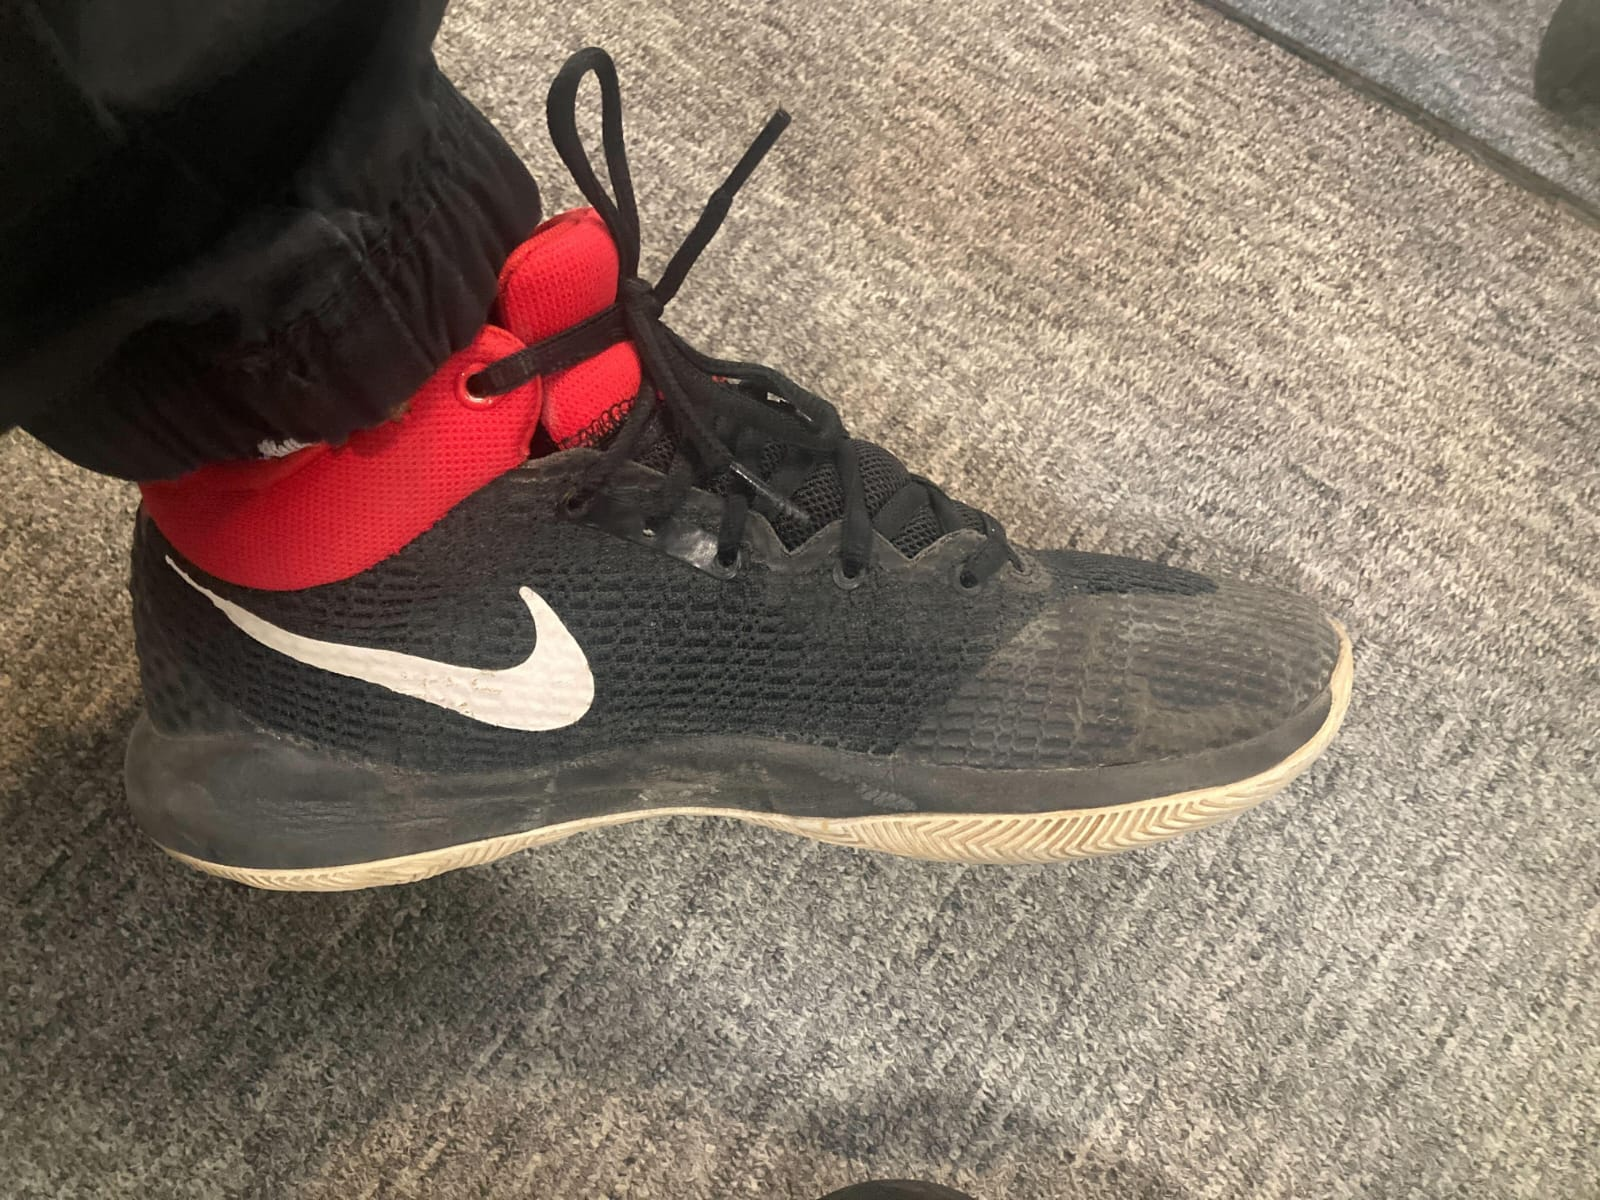Footwear: (100, 194, 1388, 938)
